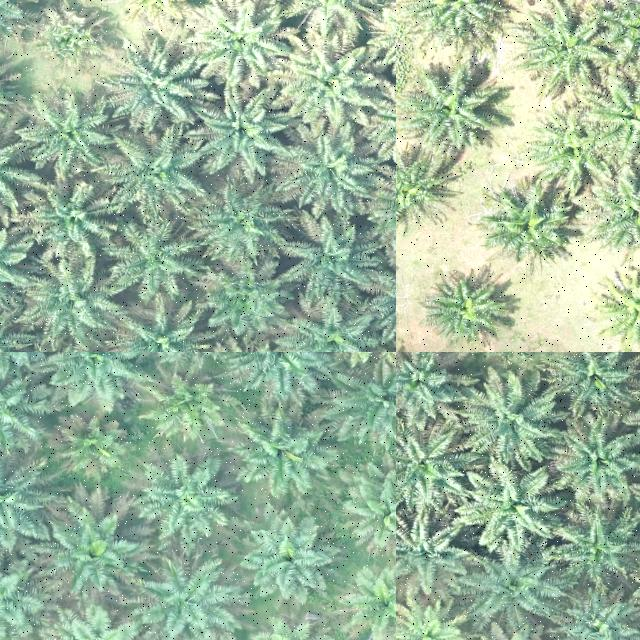Ganoderma: (604, 279, 640, 336), (399, 609, 455, 640), (132, 0, 178, 11)
